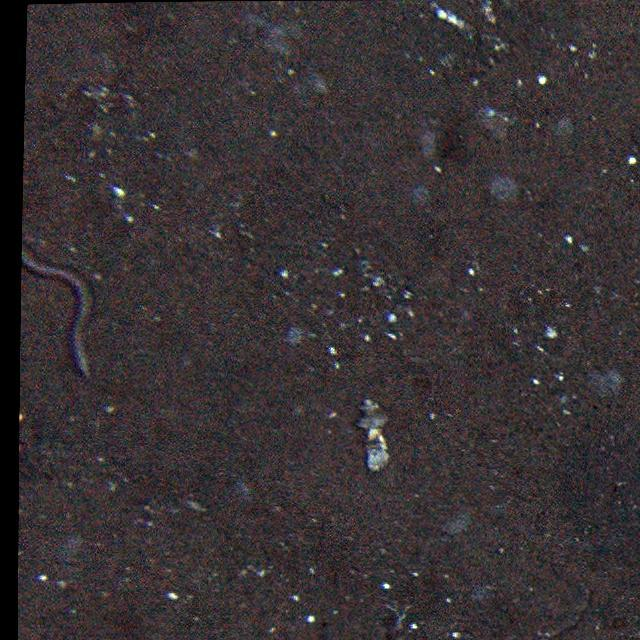eel: (21, 240, 93, 380)
